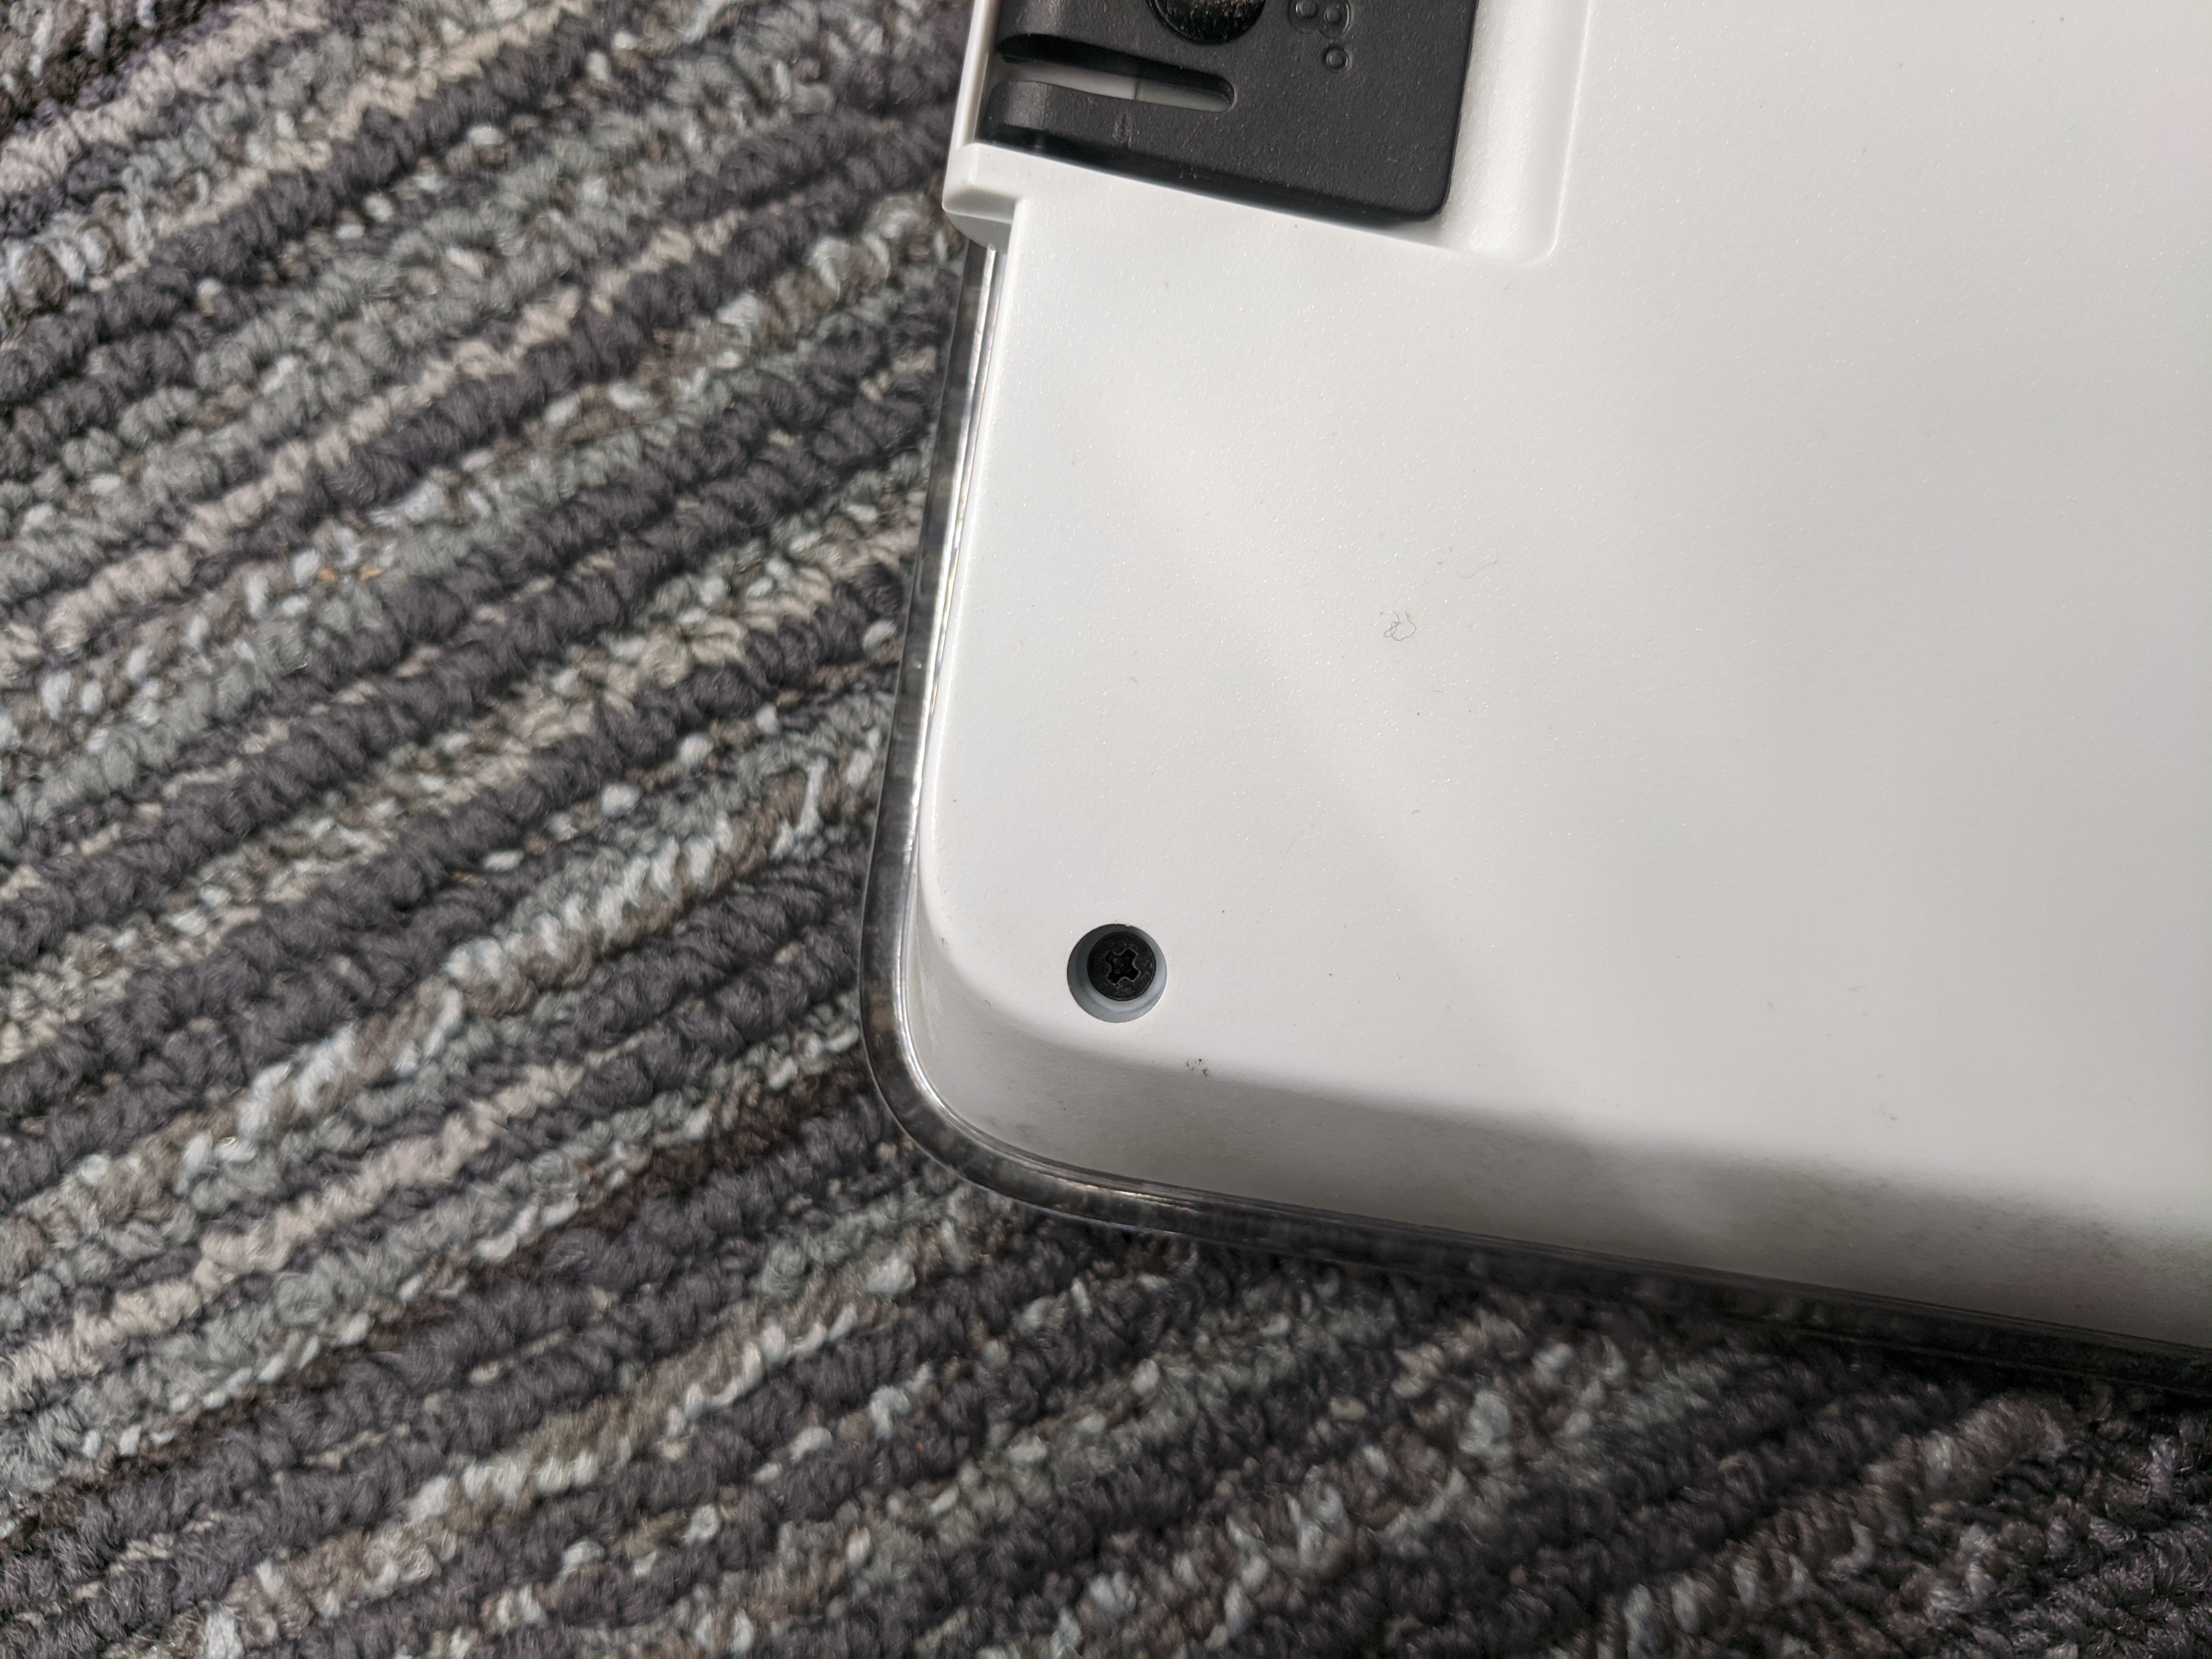cross_recessed_screw: (1071, 915, 1176, 1014)
